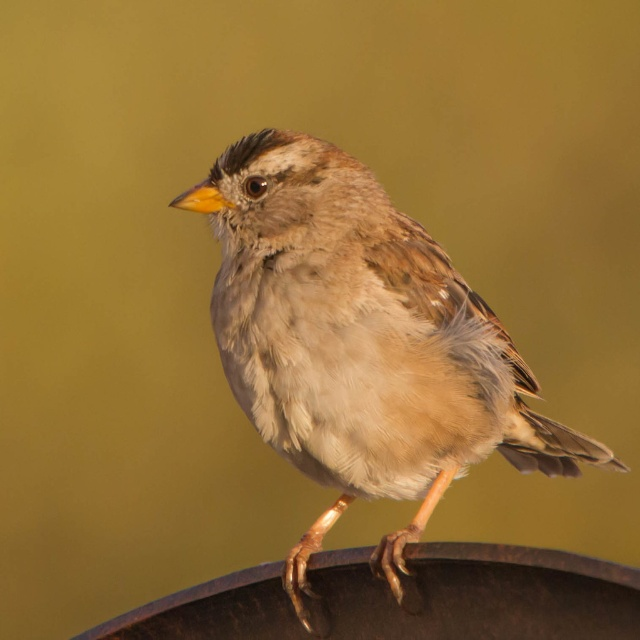Sparrow: (169, 128, 630, 633)
